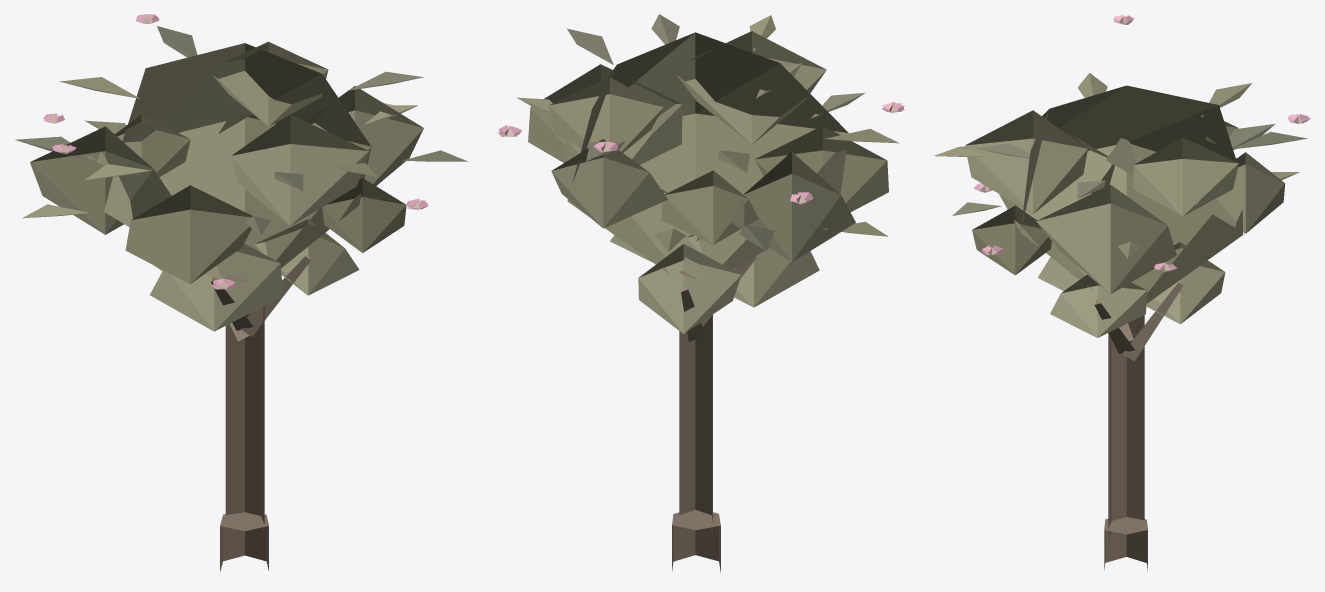
File: shu.paotong__winter.glb
3 views of the same model, side by side, from view 1: azimuth 30°, elevation 25°; view 2: azimuth 150°, elevation 25°; view 3: azimuth 270°, elevation 25° (orthographic). The views are drawn at different scales.
Visible parts, largest first — view 1: shu.paotong__winter; view 2: shu.paotong__winter; view 3: shu.paotong__winter.
Boxes of the visible parts, x1,y1,x2,y2 form: shu.paotong__winter: [15, 14, 467, 571]; shu.paotong__winter: [497, 14, 904, 572]; shu.paotong__winter: [934, 14, 1310, 570].
Size of the model in its own units: 12.98 by 16.56 by 11.97.
